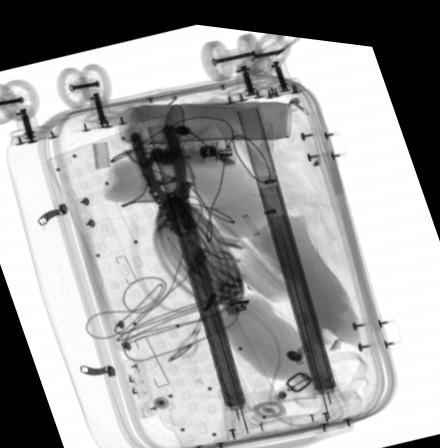Pliers: (127, 117, 198, 233)
